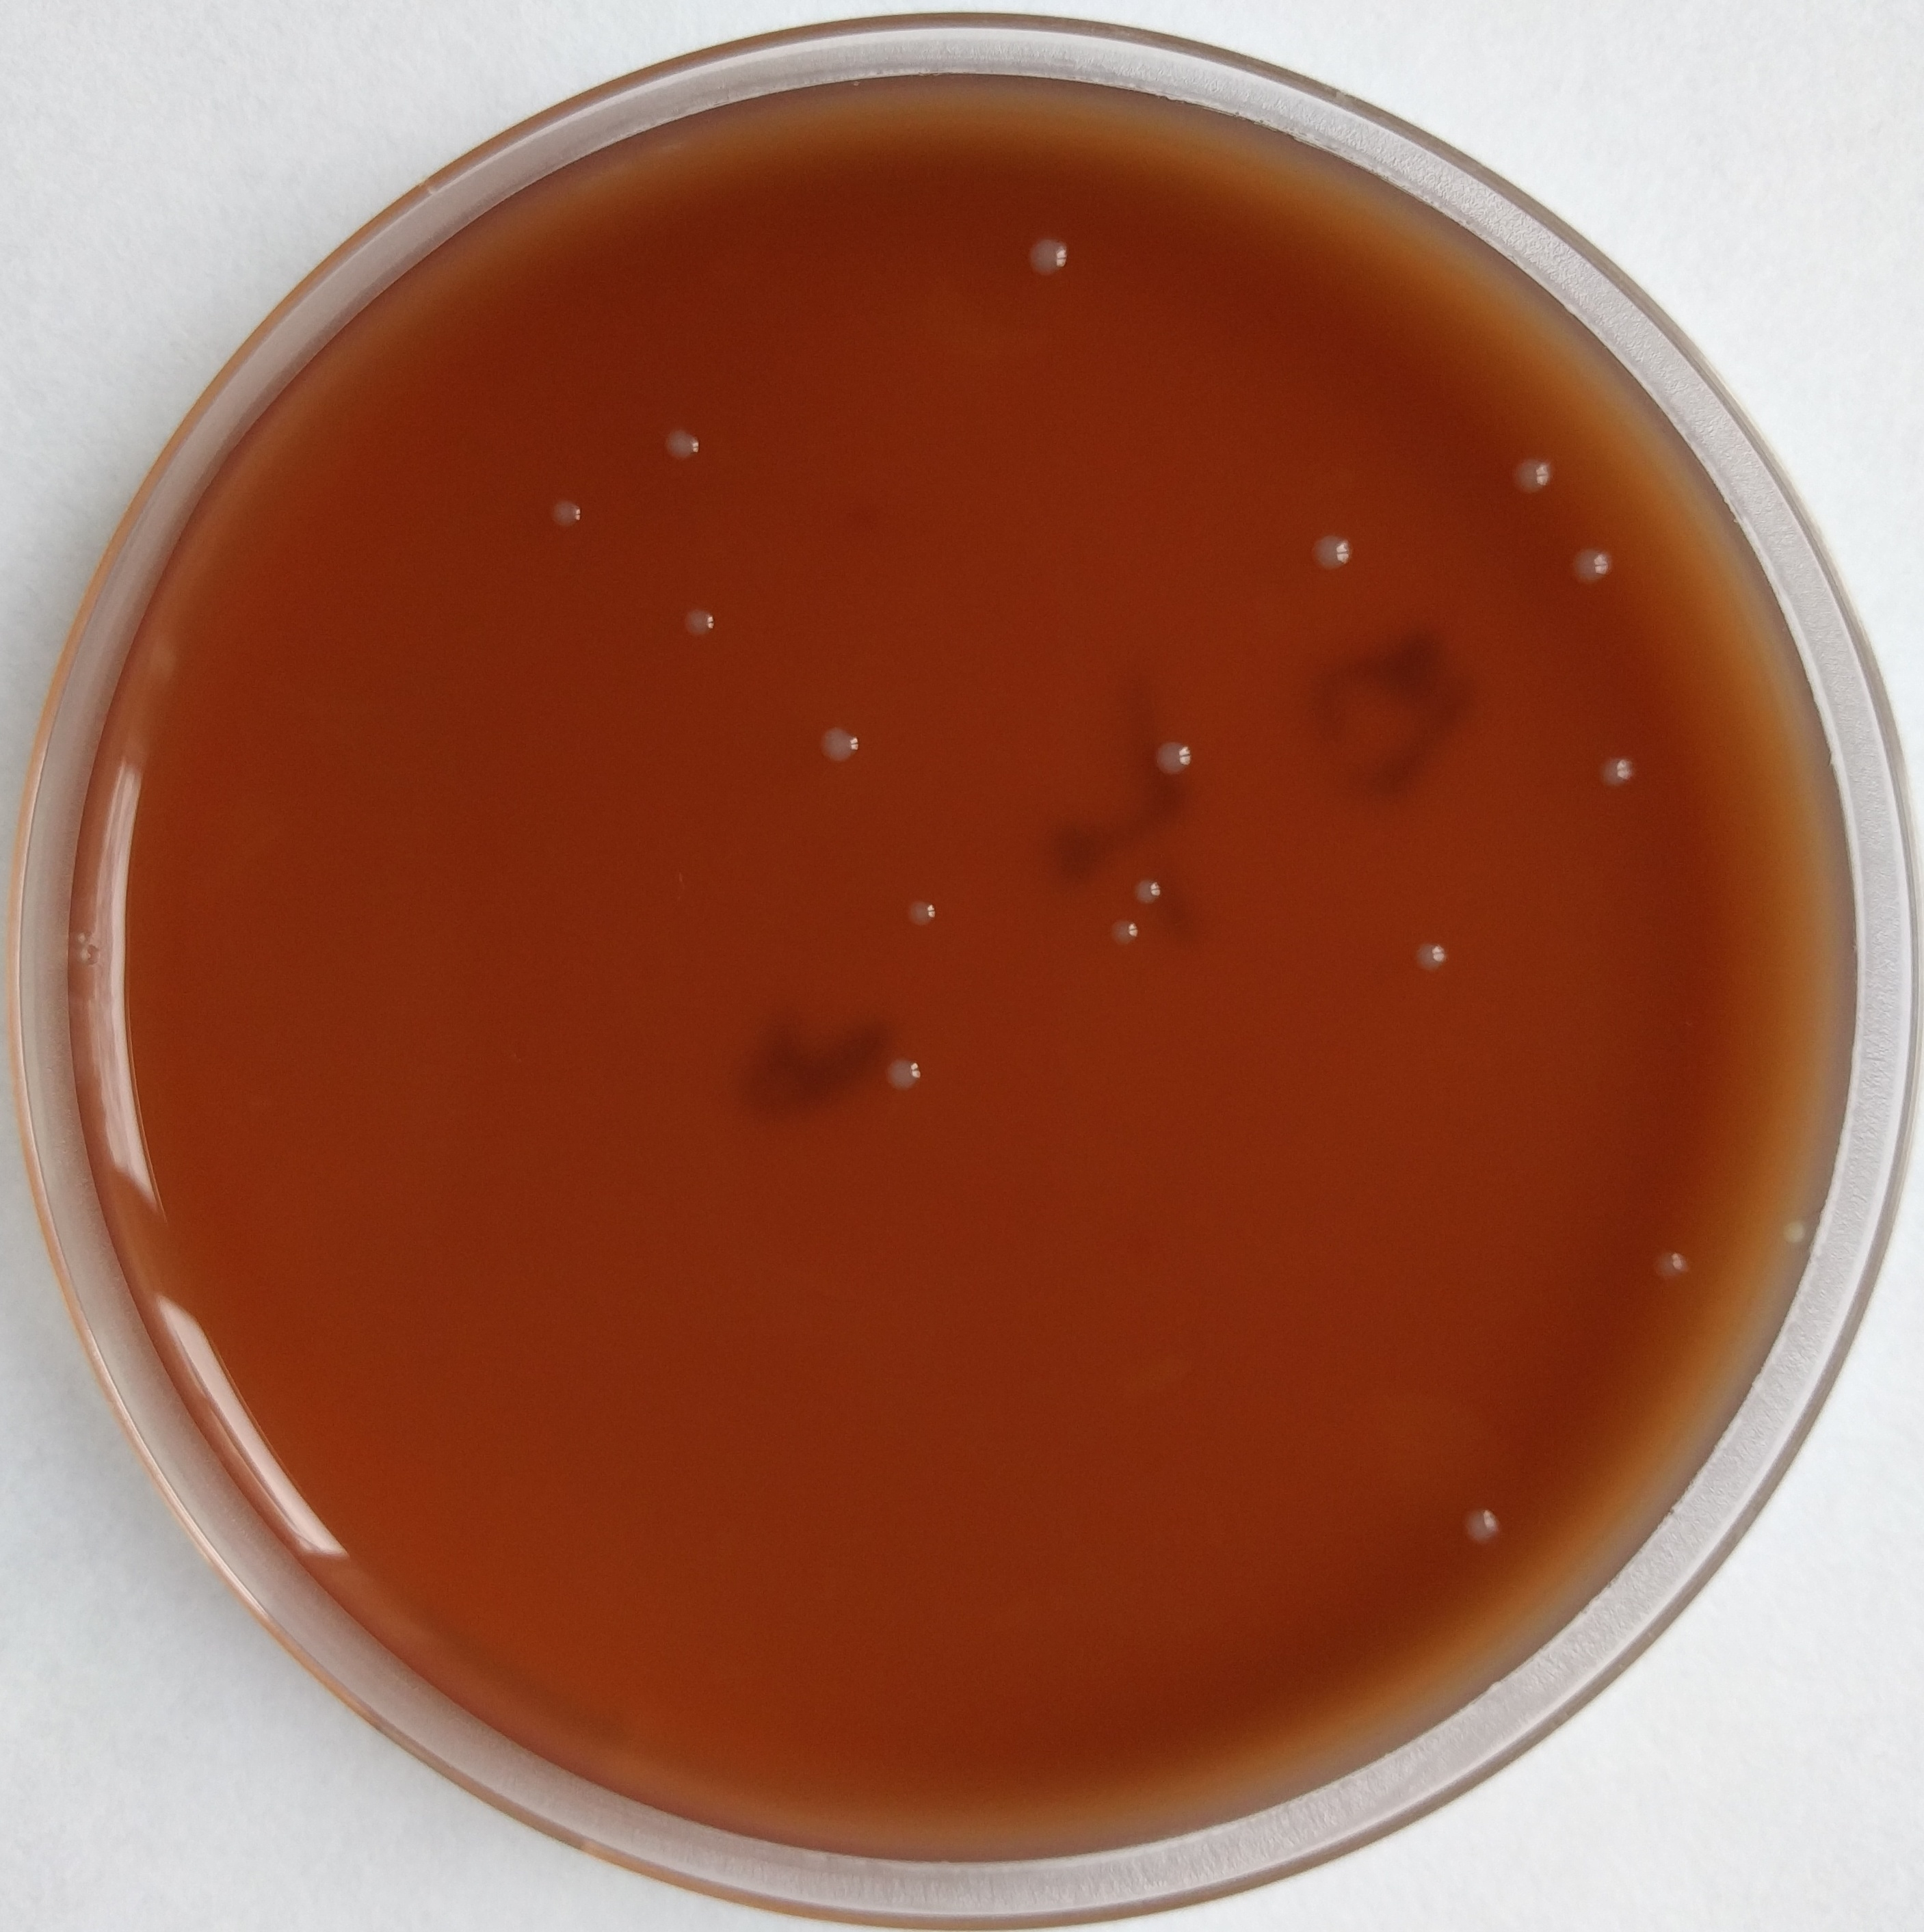sp16: (798, 712, 881, 805), (657, 590, 740, 666), (1457, 1488, 1526, 1574), (1492, 439, 1566, 514), (886, 863, 958, 939), (1129, 722, 1212, 787), (647, 410, 726, 476), (1004, 225, 1084, 280), (1644, 1235, 1716, 1294), (1408, 932, 1480, 986), (1302, 520, 1367, 574), (876, 1046, 944, 1095), (1092, 891, 1149, 949), (1122, 863, 1175, 916), (539, 488, 587, 544), (1593, 745, 1642, 791), (1570, 542, 1617, 581)
